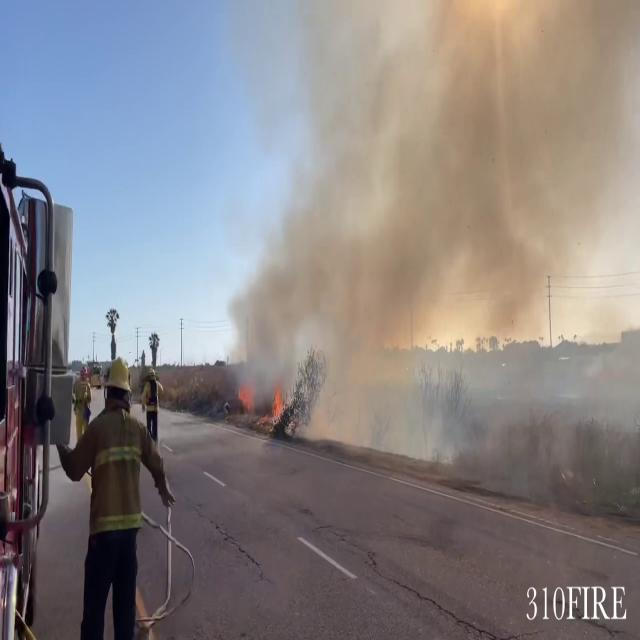Smoke: (225, 0, 611, 429)
